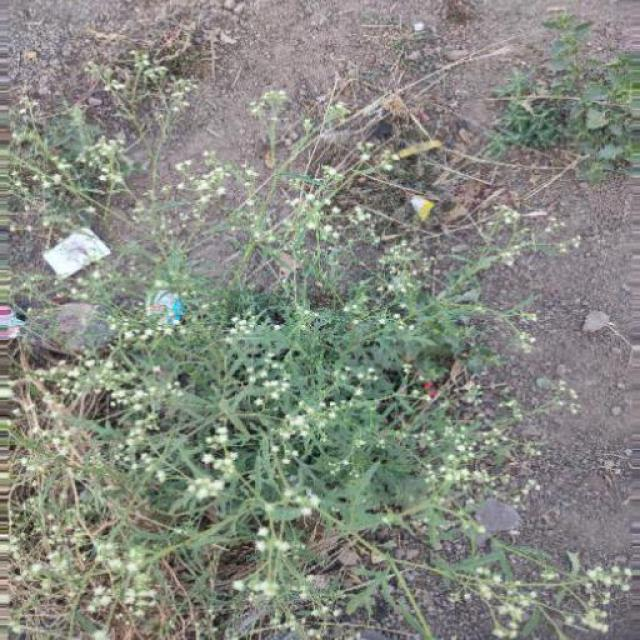weed: (15, 240, 503, 624)
